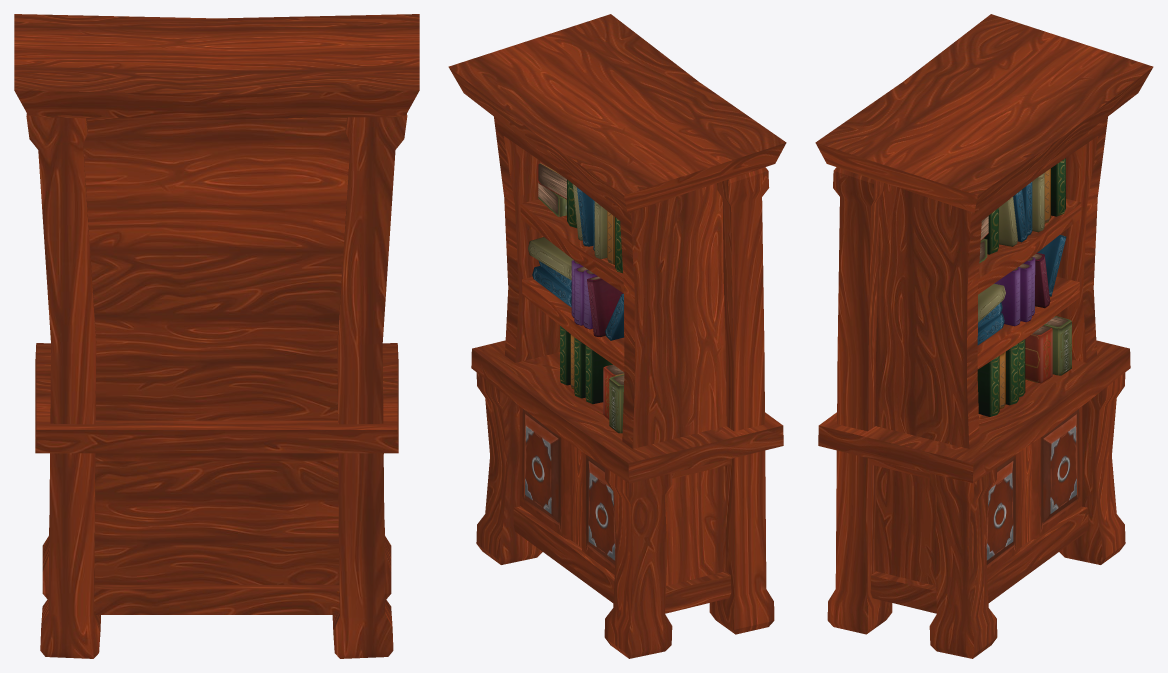
The picture shows the model from 3 angles, left to right: view 1: azimuth 30°, elevation 25°; view 2: azimuth 150°, elevation 25°; view 3: azimuth 270°, elevation 25°; orthographic projection. The views are drawn at different scales.
Parts seen in each view (by area): view 1: SmartCombine_0; view 2: SmartCombine_0; view 3: SmartCombine_0.
Part boxes in pixels (x1,y1,x2,y2): SmartCombine_0: [14, 14, 419, 658]; SmartCombine_0: [448, 14, 786, 658]; SmartCombine_0: [815, 14, 1153, 658].
Size of the model in its own units: 272 by 373 by 231.
Materials: 4 (4 with a texture image).
